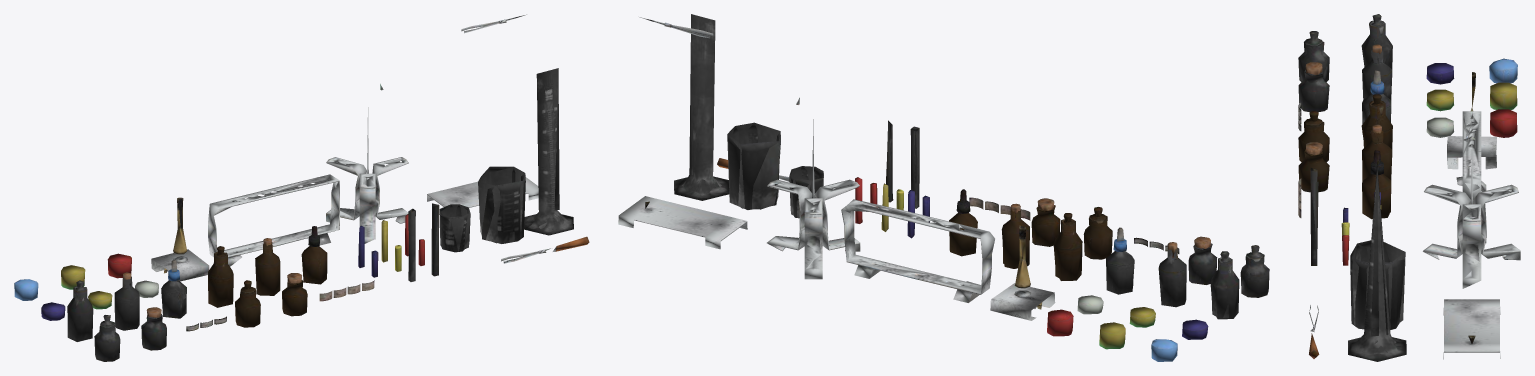
The model's file is chemistry_set.glb.
3 renders of one model, left to right at view 1: azimuth 30°, elevation 25°; view 2: azimuth 150°, elevation 25°; view 3: azimuth 270°, elevation 25°, orthographic. The views are drawn at different scales.
Visible parts, largest first — view 1: chemistry_set_beaker_large, chemistry_set_beaker_med, chemistry_set_test_tube_stand_a, chemistry_set_test_tube_stand_b, chemistry_set_bunsen_burner, chemistry_set_beaker_small, chemistry_set_bottle_clear_c, chemistry_set_bottle_dark_c, chemistry_set_clamp_stand, chemistry_set_bottle_clear_d, chemistry_set_bottle_dark_d, chemistry_set_bottle_dark_e (+11 smaller); view 2: chemistry_set_beaker_large, chemistry_set_test_tube_stand_a, chemistry_set_beaker_med, chemistry_set_test_tube_stand_b, chemistry_set_clamp_stand, chemistry_set_bunsen_burner, chemistry_set_bottle_clear_c, chemistry_set_bottle_dark_c, chemistry_set_bottle_clear_d, chemistry_set_bottle_dark_d, chemistry_set_bottle_clear_e, chemistry_set_bottle_clear_a (+9 smaller); view 3: chemistry_set_test_tube_stand_b, chemistry_set_beaker_large, chemistry_set_clamp_stand, chemistry_set_beaker_med, chemistry_set_test_tube_stand_a, chemistry_set_bunsen_burner, chemistry_set_bottle_clear_b, chemistry_set_bottle_dark_e, chemistry_set_bottle_dark_b, chemistry_set_bottle_dark_d, chemistry_set_bottle_clear_d, chemistry_set_bottle_dark_c (+17 smaller).
Boxes of the visible parts, box(x1,y1,x2,y2) form: chemistry_set_beaker_large: box(524, 68, 573, 235); chemistry_set_beaker_med: box(478, 166, 525, 243); chemistry_set_test_tube_stand_a: box(208, 174, 339, 266); chemistry_set_test_tube_stand_b: box(326, 83, 408, 243); chemistry_set_bunsen_burner: box(151, 197, 209, 281); chemistry_set_beaker_small: box(439, 204, 470, 252); chemistry_set_bottle_clear_c: box(67, 286, 93, 341); chemistry_set_bottle_dark_c: box(208, 251, 233, 307); chemistry_set_clamp_stand: box(427, 177, 538, 207); chemistry_set_bottle_clear_d: box(114, 276, 139, 330); chemistry_set_bottle_dark_d: box(255, 242, 280, 295); chemistry_set_bottle_dark_e: box(301, 246, 327, 284); chemistry_set_beaker_large: box(674, 14, 729, 200); chemistry_set_test_tube_stand_a: box(841, 199, 994, 302); chemistry_set_beaker_med: box(727, 122, 780, 209); chemistry_set_test_tube_stand_b: box(767, 97, 860, 279); chemistry_set_clamp_stand: box(618, 196, 747, 249); chemistry_set_bunsen_burner: box(990, 225, 1055, 320); chemistry_set_bottle_clear_c: box(1210, 257, 1239, 319); chemistry_set_bottle_dark_c: box(1053, 219, 1082, 280); chemistry_set_bottle_clear_d: box(1158, 247, 1186, 307); chemistry_set_bottle_dark_d: box(1001, 208, 1029, 268); chemistry_set_bottle_clear_e: box(1106, 251, 1134, 294); chemistry_set_bottle_clear_a: box(1240, 252, 1269, 297); chemistry_set_test_tube_stand_b: box(1423, 110, 1520, 288); chemistry_set_beaker_large: box(1348, 164, 1406, 361); chemistry_set_clamp_stand: box(1443, 299, 1500, 359); chemistry_set_beaker_med: box(1350, 240, 1405, 329); chemistry_set_test_tube_stand_a: box(1456, 111, 1486, 243); chemistry_set_bunsen_burner: box(1447, 72, 1496, 169); chemistry_set_bottle_clear_b: box(1298, 69, 1329, 112); chemistry_set_bottle_dark_e: box(1362, 173, 1391, 219); chemistry_set_bottle_dark_b: box(1298, 149, 1329, 192); chemistry_set_bottle_dark_d: box(1362, 130, 1392, 181); chemistry_set_bottle_clear_d: box(1362, 50, 1392, 99); chemistry_set_bottle_dark_c: box(1361, 100, 1392, 149).
Bounding box in the file's own units: 1.08 × 0.3697 × 0.3521.
2 materials, 2 textured.
